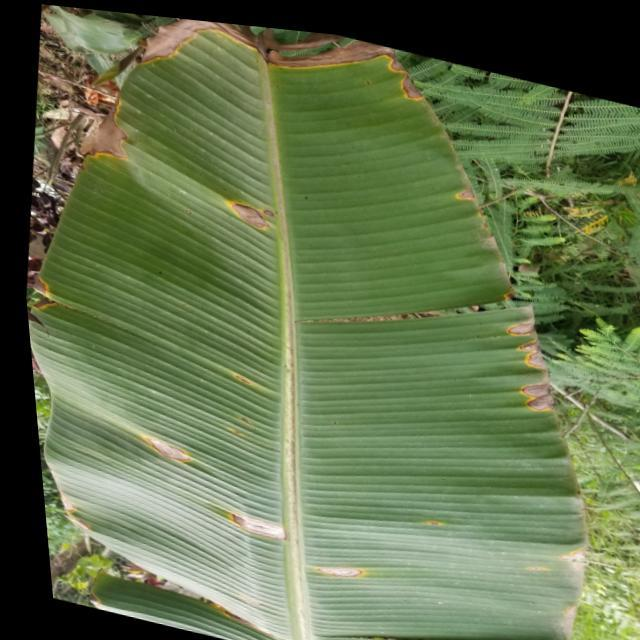Early_rust: (0, 17, 600, 640)
